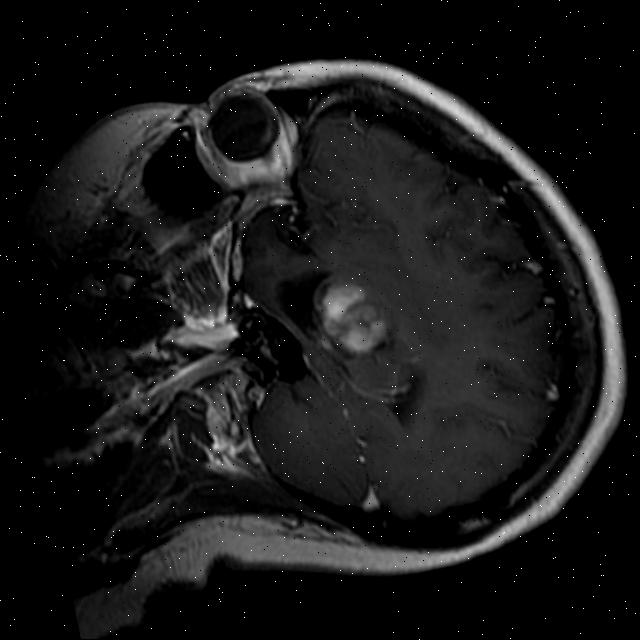Glioma: (309, 270, 397, 364)
